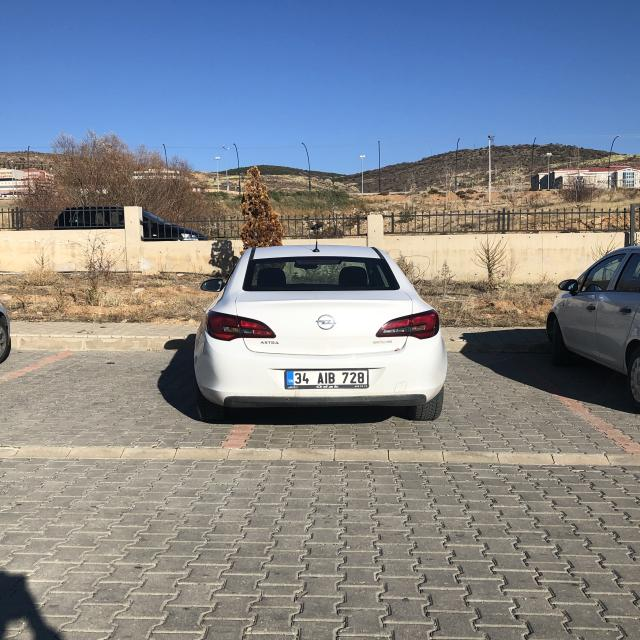license_plate: (285, 369, 368, 385)
